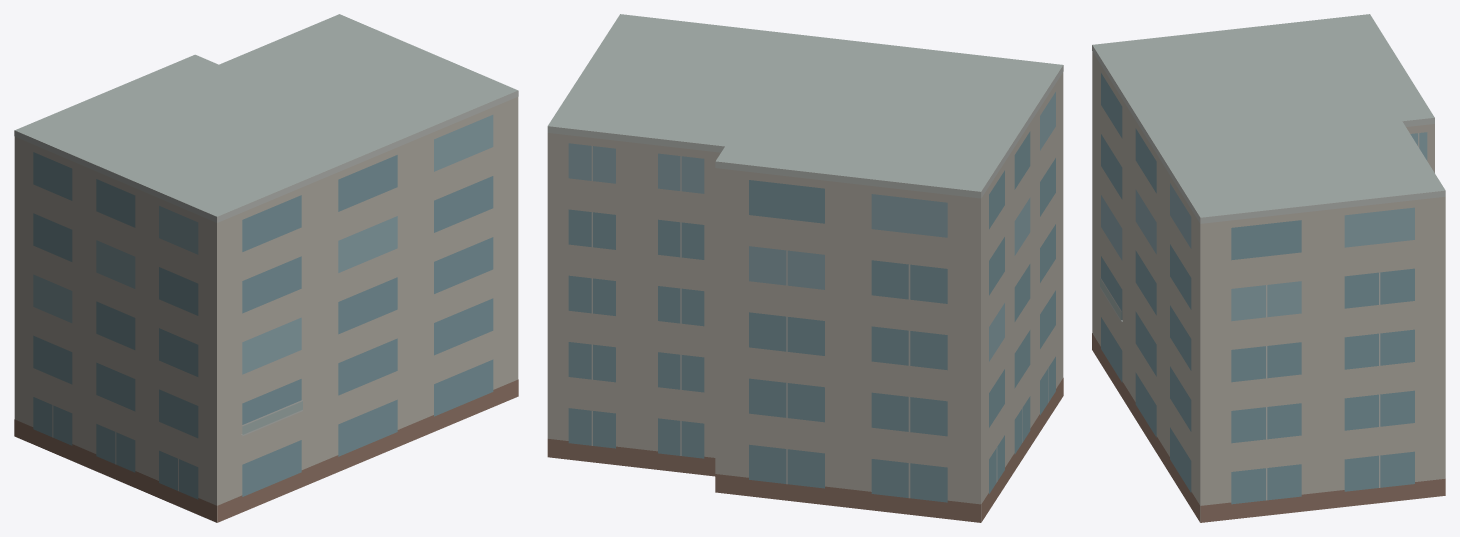
File: survey-upis-32571421.glb
3 views of the same model, side by side, from view 1: azimuth 30°, elevation 25°; view 2: azimuth 150°, elevation 25°; view 3: azimuth 270°, elevation 25° (orthographic). The views are drawn at different scales.
Visible parts, largest first — view 1: survey-upis-32571421.tmp; view 2: survey-upis-32571421.tmp; view 3: survey-upis-32571421.tmp.
Part boxes in pixels (box(x1,y1,x2,y2)): survey-upis-32571421.tmp: box(14, 14, 518, 522); survey-upis-32571421.tmp: box(547, 14, 1063, 522); survey-upis-32571421.tmp: box(1092, 14, 1445, 522).
Bounding box in the file's own units: 17.34 × 12.1 × 12.71.
